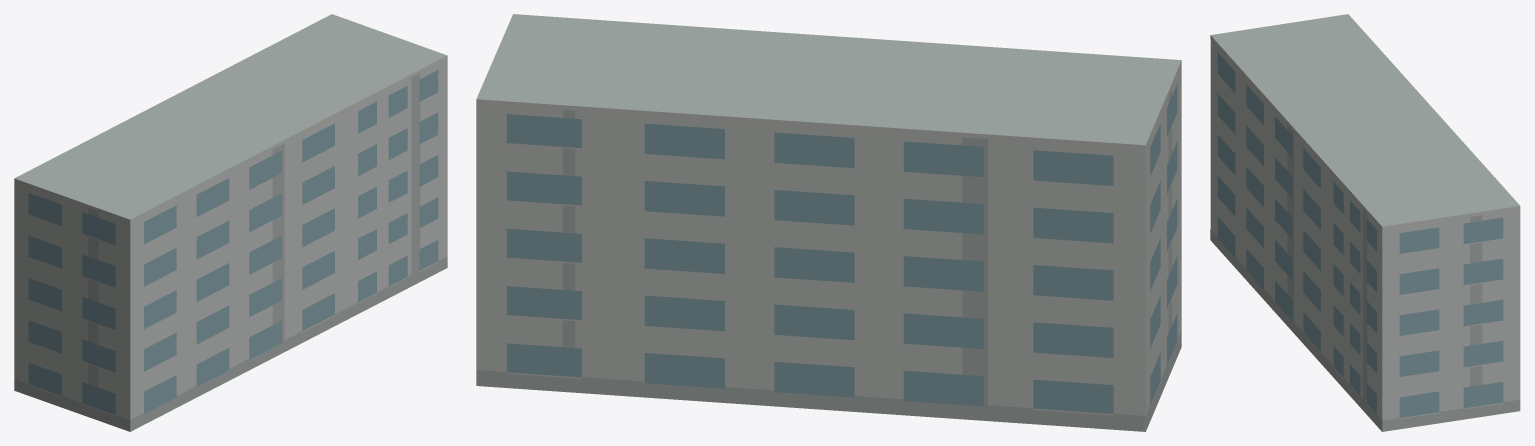
Rendered from survey-upis-32973177.glb.
3 views of the same model, side by side, from view 1: azimuth 30°, elevation 25°; view 2: azimuth 150°, elevation 25°; view 3: azimuth 270°, elevation 25° (orthographic). The views are drawn at different scales.
Visible parts, largest first — view 1: survey-upis-32973177.tmp; view 2: survey-upis-32973177.tmp; view 3: survey-upis-32973177.tmp.
Boxes of the visible parts, bbox=[...] form: survey-upis-32973177.tmp: bbox=[14, 14, 447, 431]; survey-upis-32973177.tmp: bbox=[476, 14, 1181, 431]; survey-upis-32973177.tmp: bbox=[1210, 14, 1520, 431].
Bounding box in the file's own units: 32.58 × 14.65 × 20.06.
